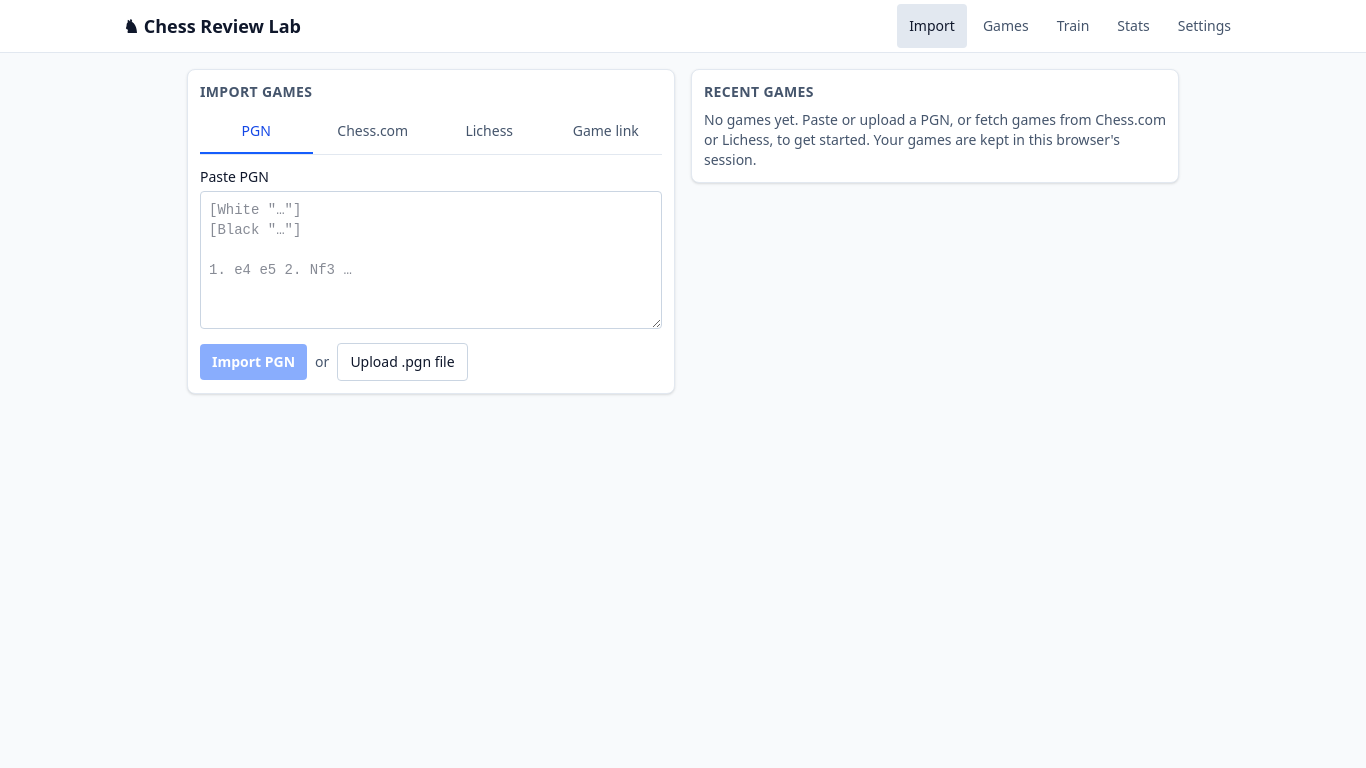
Scenario: navigation › moves between the pages
The width and height of the screenshot is (1366, 768).
Click the link "Games" at (1006, 26), box x1=983 y1=16 x2=1029 y2=35
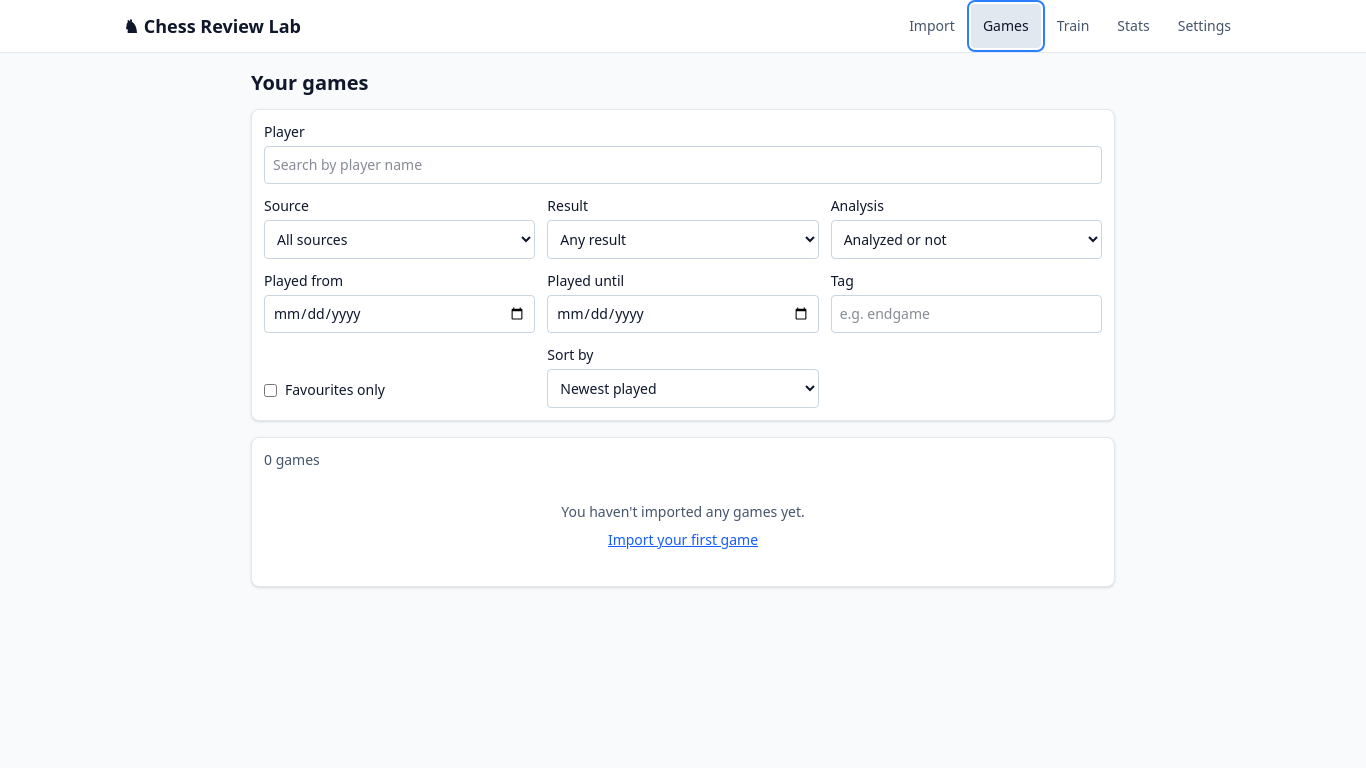
Check: the heading "Your games" is shown, box x1=251 y1=69 x2=368 y2=96
Click the link "Settings" at (1204, 26), box x1=1178 y1=16 x2=1231 y2=35
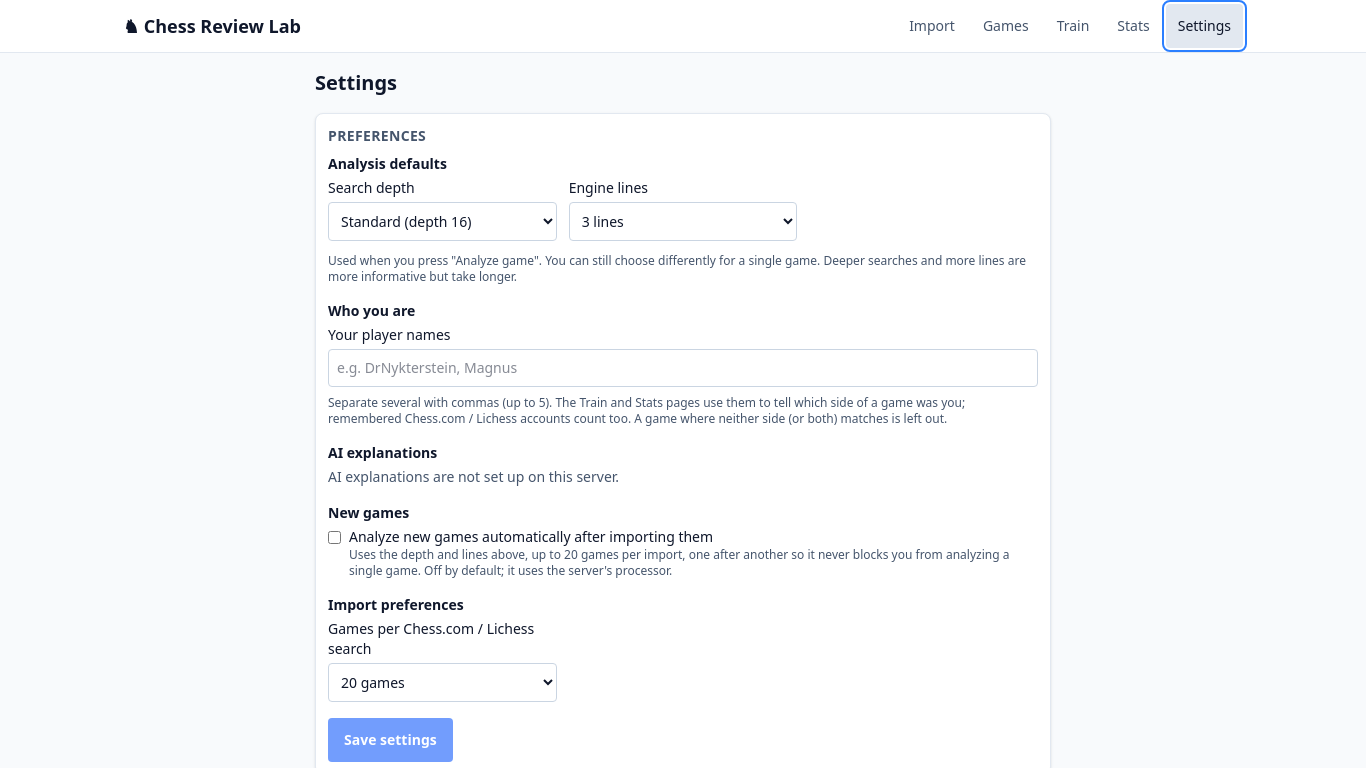
Check: the heading "Settings" is shown, box x1=315 y1=69 x2=397 y2=96
Click the link "♞ Chess Review Lab" at (212, 26), box x1=123 y1=14 x2=301 y2=38
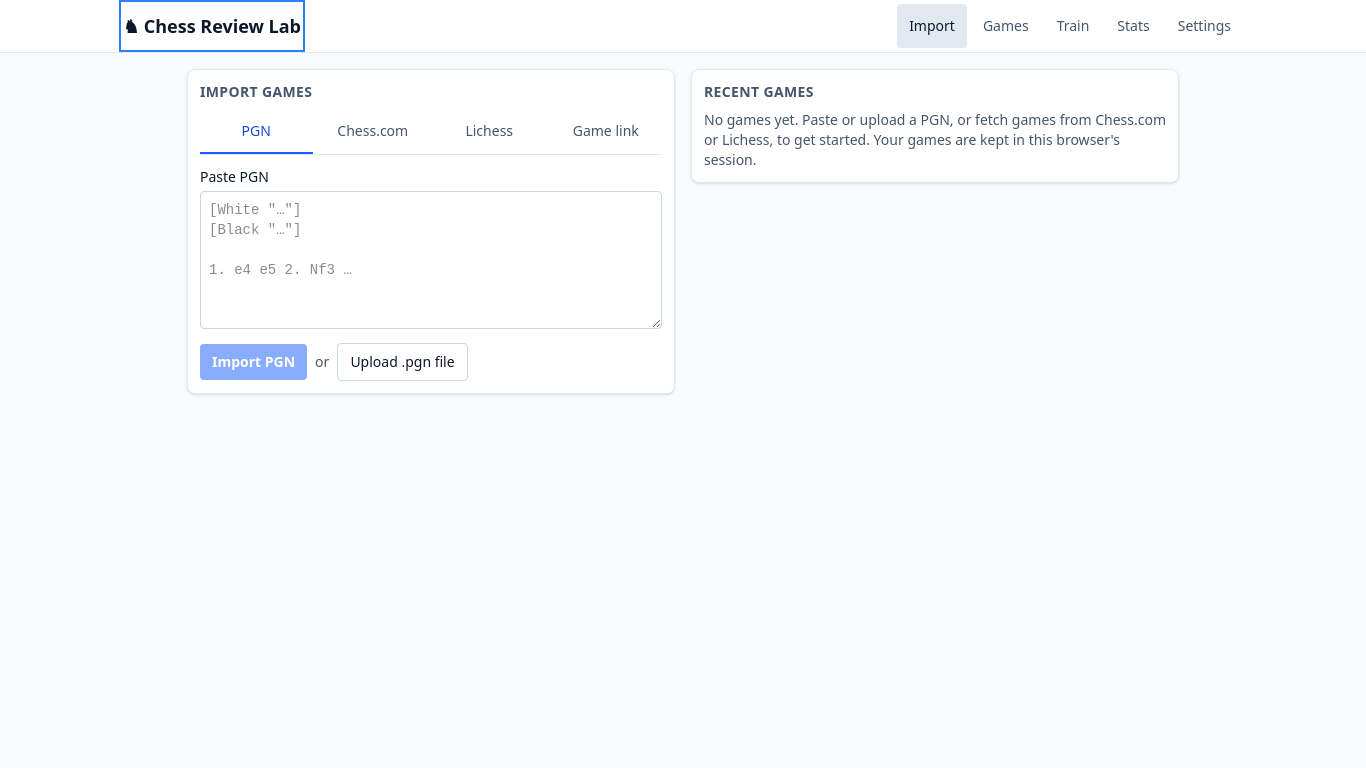
Check: the text box labelled "Paste PGN" is shown, box x1=200 y1=191 x2=662 y2=329
